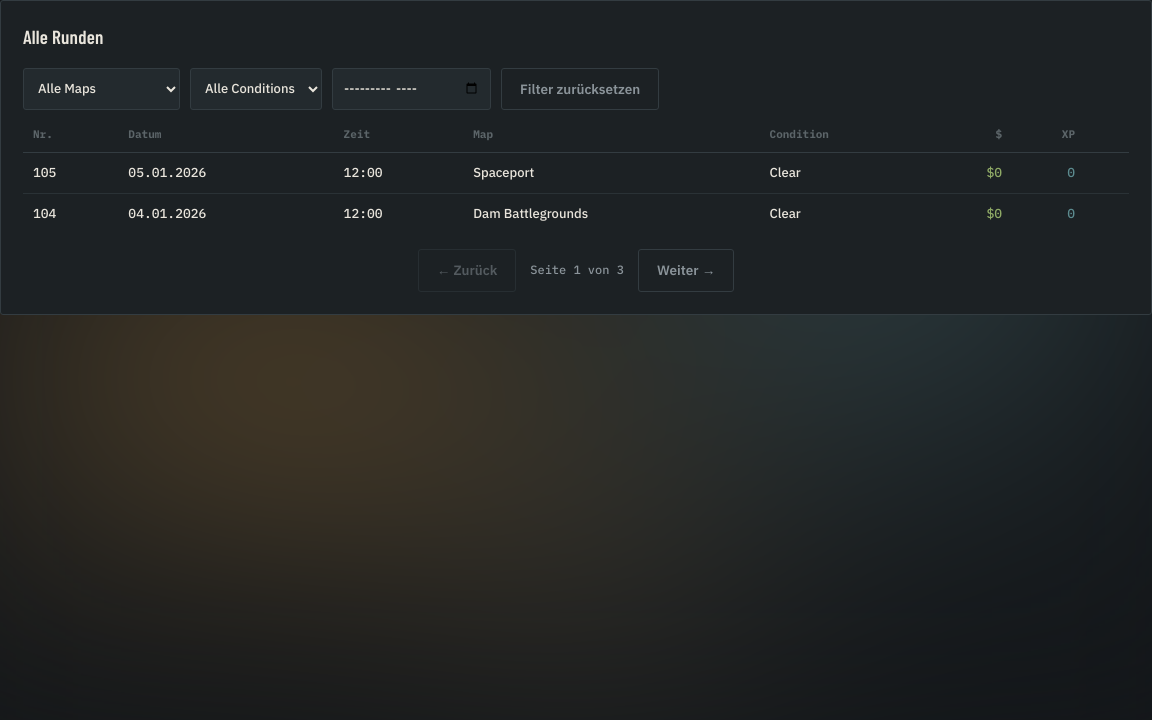
ListView pagination › disables the buttons at both ends
This screenshot has width=1152, height=720.
Expected: the button "← Zurück" is disabled, x1=418 y1=249 x2=516 y2=292
Click the button "Weiter →". click: (686, 270)
box: x1=638 y1=249 x2=734 y2=292
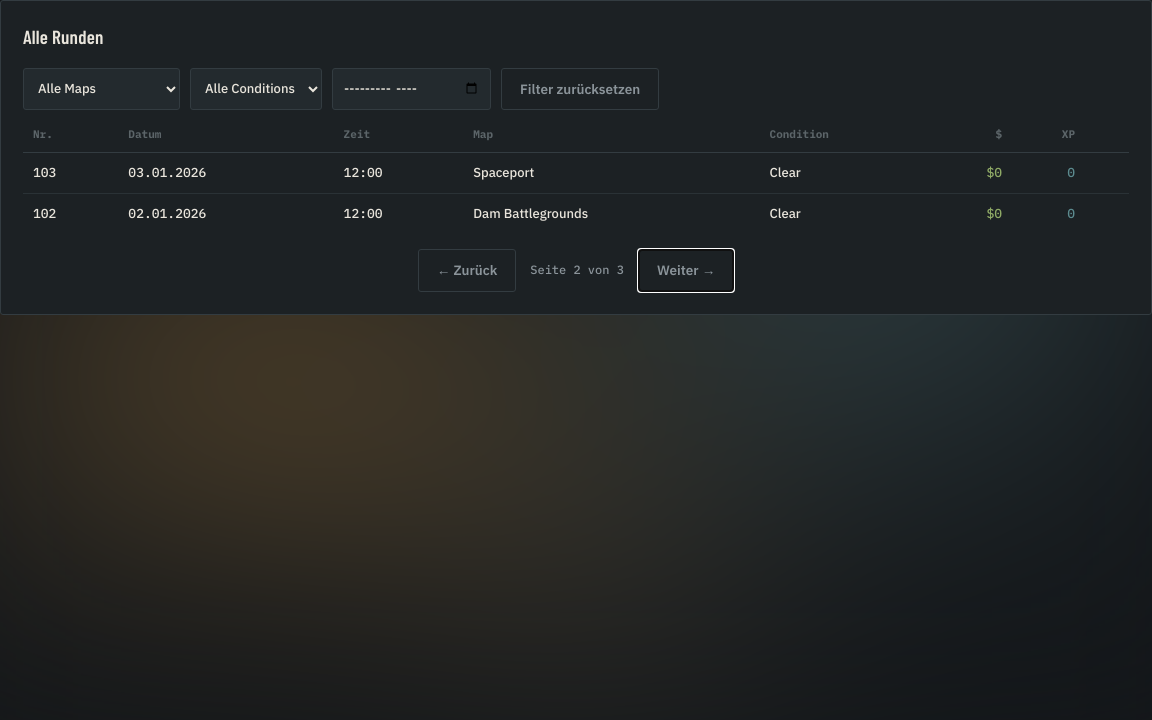
Click the button "Weiter →". click: (686, 270)
box: x1=638 y1=249 x2=734 y2=292
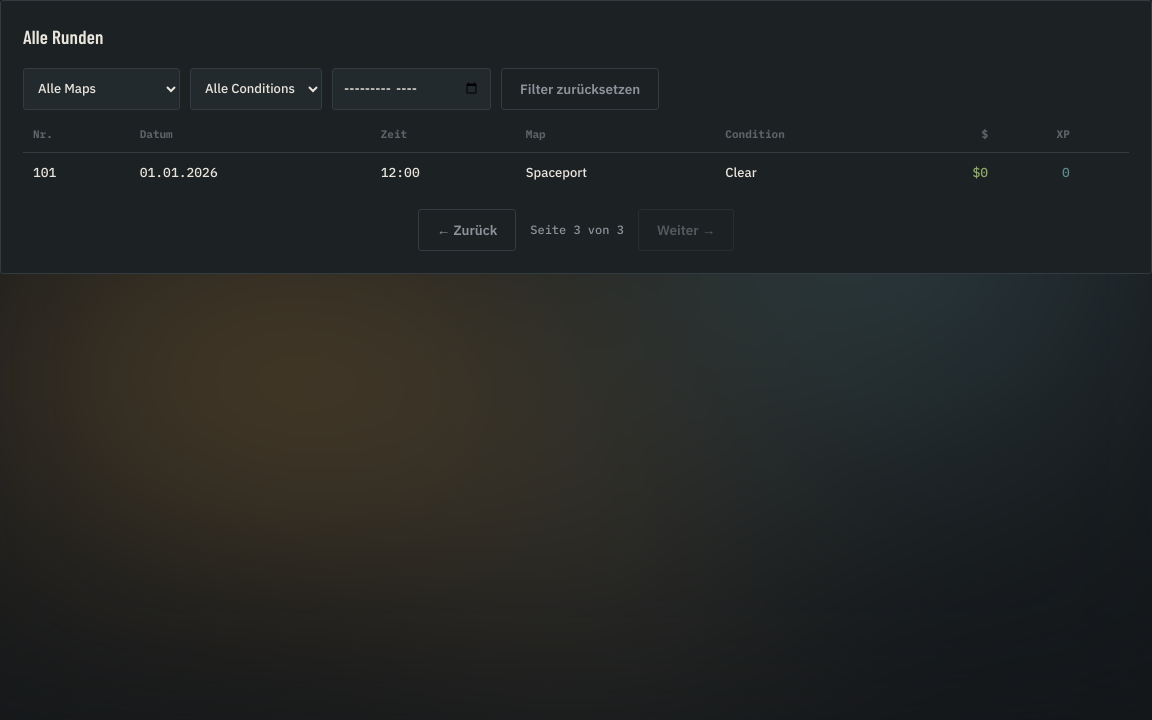
Expected: the text "Seite 3 von 3" is shown, x1=530 y1=222 x2=624 y2=238
Expected: the button "Weiter →" is disabled, x1=638 y1=209 x2=734 y2=251
